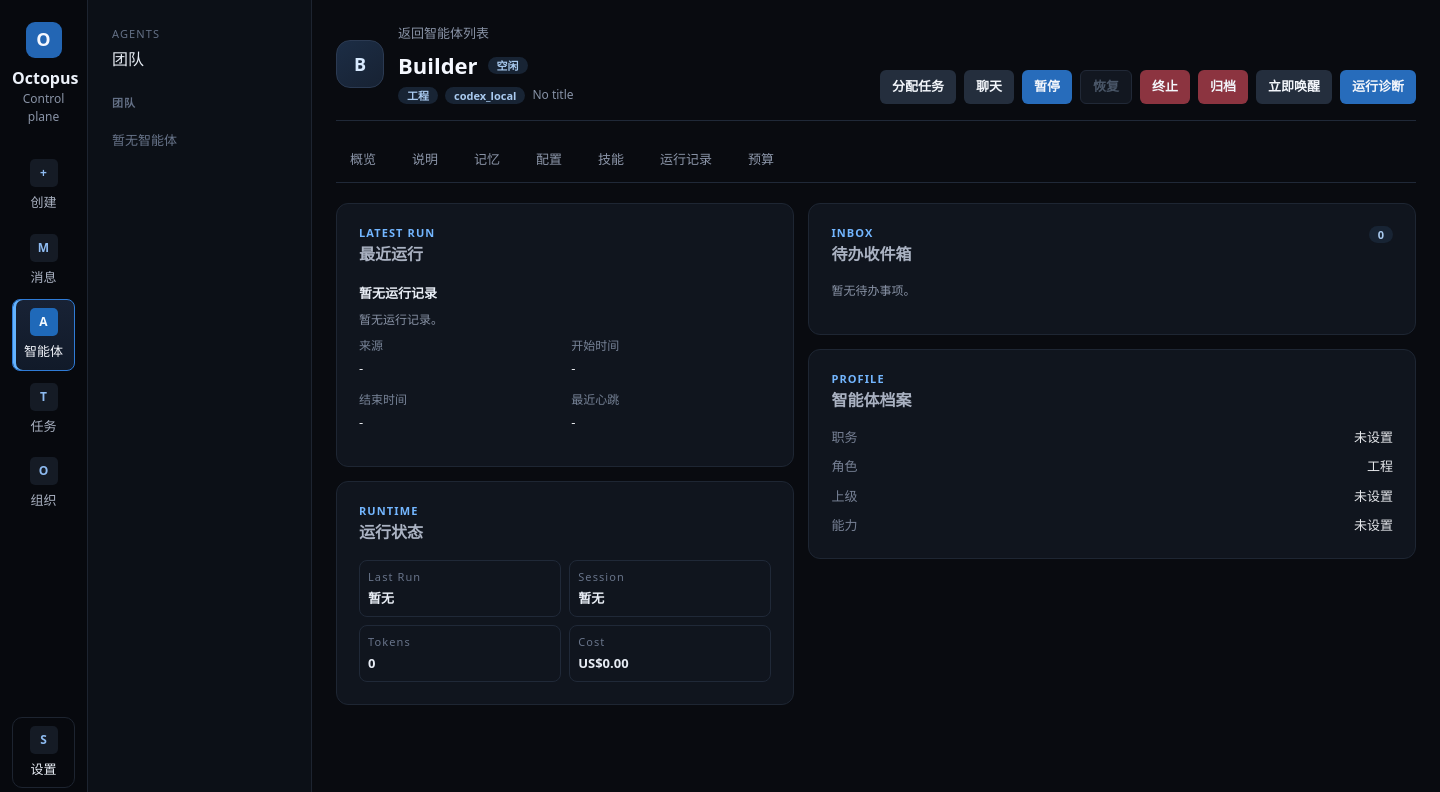
it: assigns a task to the current agent from a modal
Click the button "分配任务" at [918, 87], box x1=880 y1=70 x2=956 y2=104
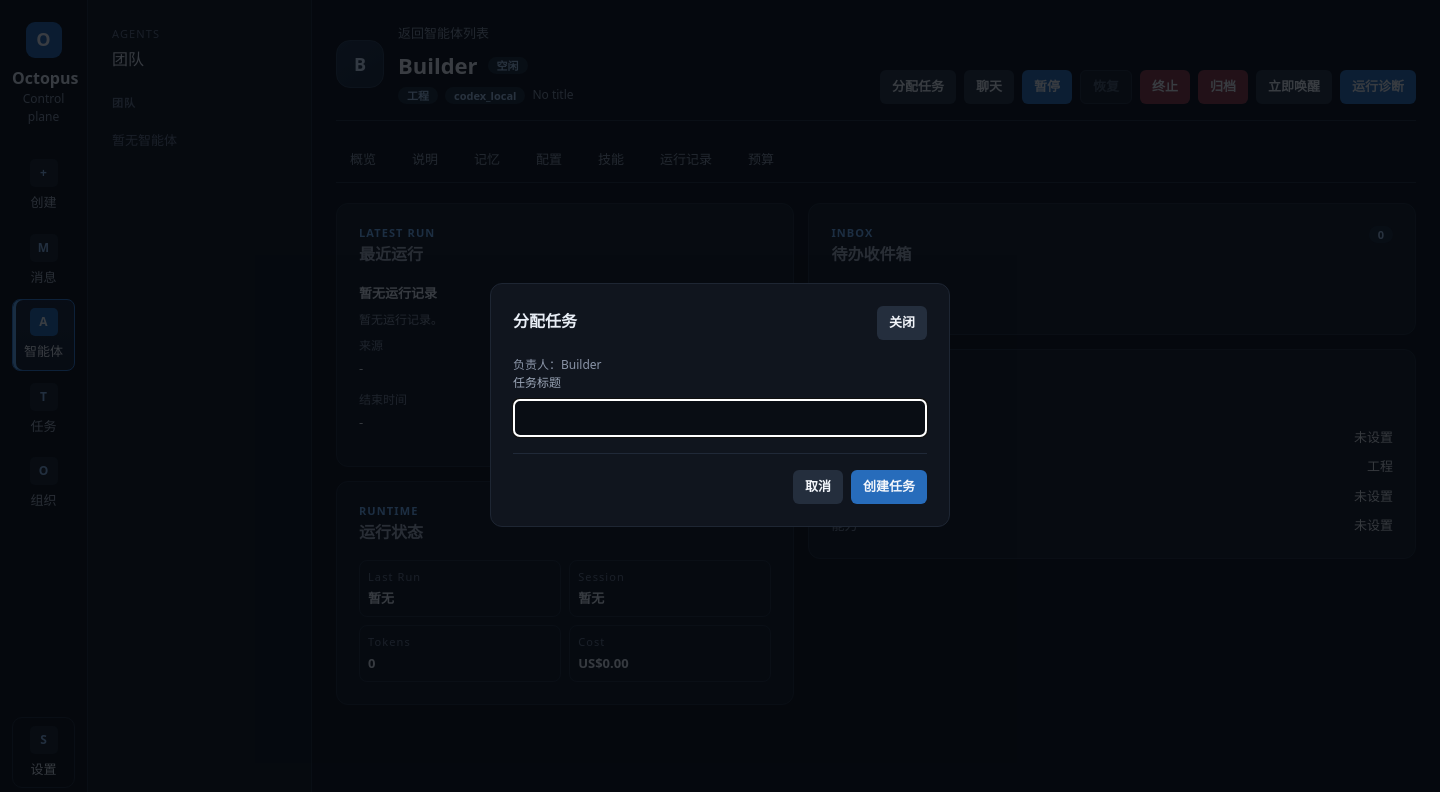
Check: the dialog "分配任务" shows "负责人：Builder", box x1=490 y1=283 x2=950 y2=527
Type "排查部署" into the field labelled "任务标题" at [720, 418], box x1=513 y1=399 x2=927 y2=437
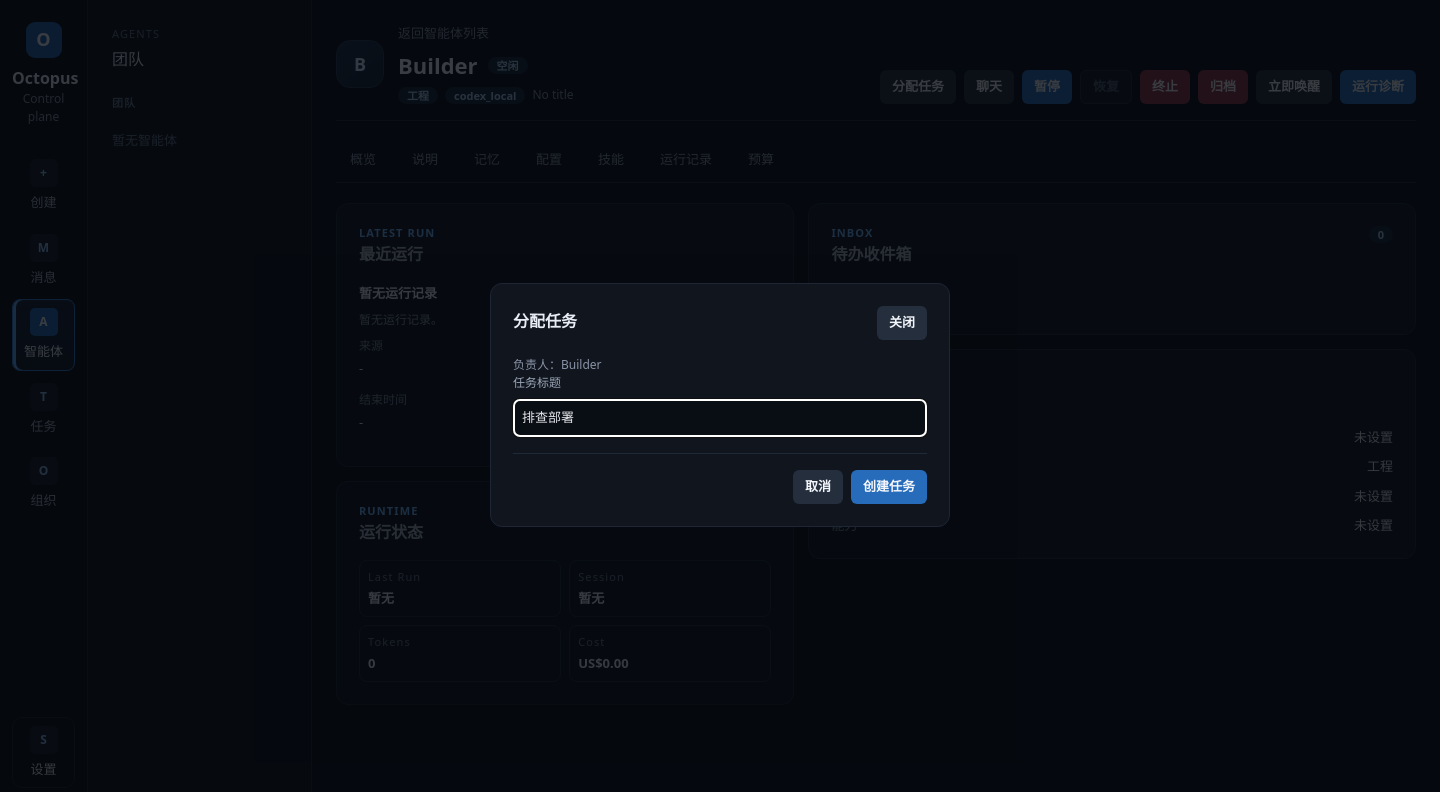
Click the button "创建任务" at [889, 487], box x1=851 y1=470 x2=927 y2=504
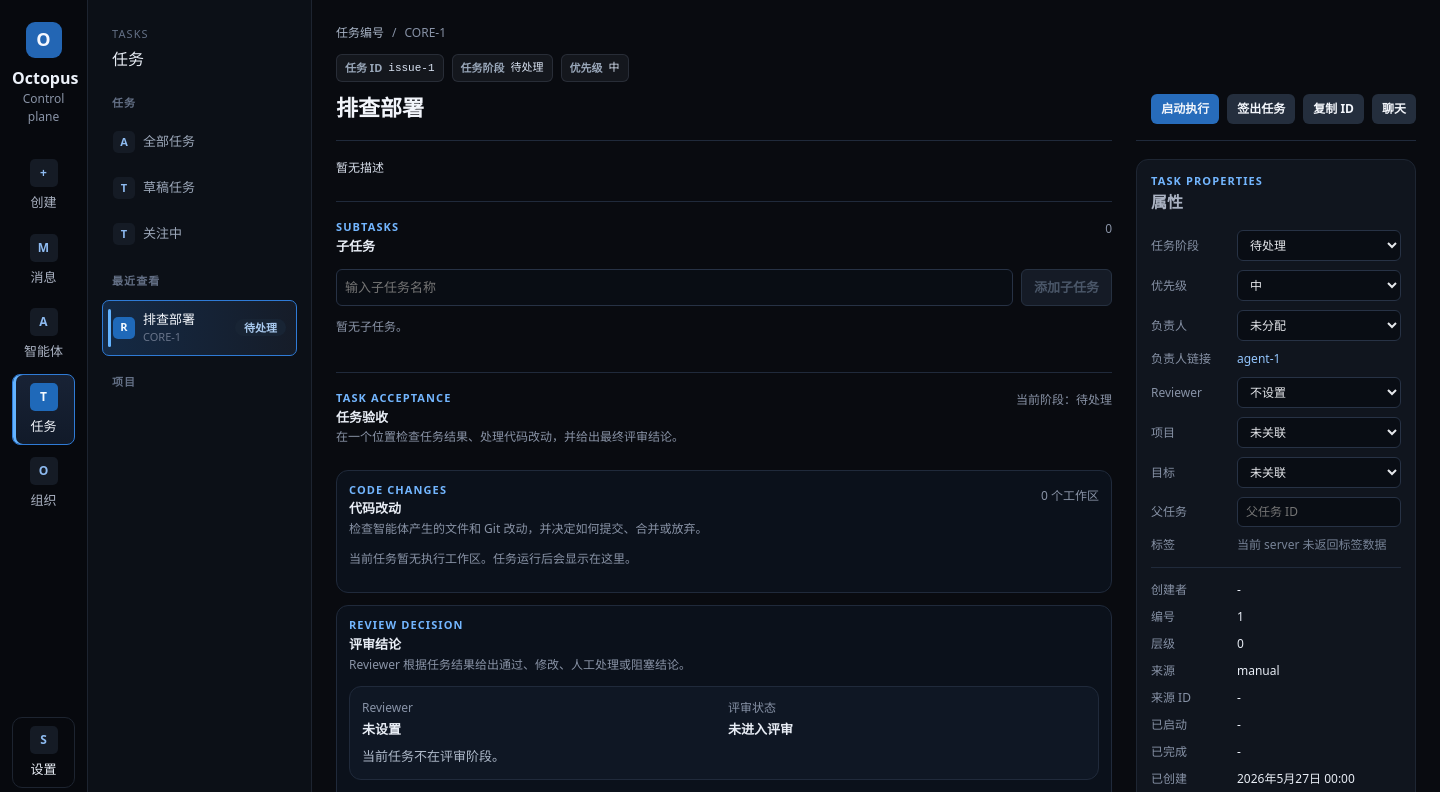
Check: the heading "排查部署" is shown, box x1=336 y1=94 x2=424 y2=122
